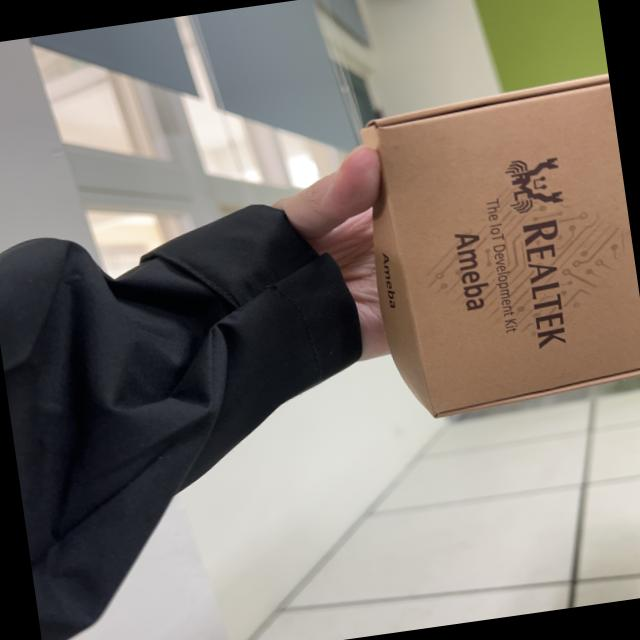box: (335, 64, 640, 454)
